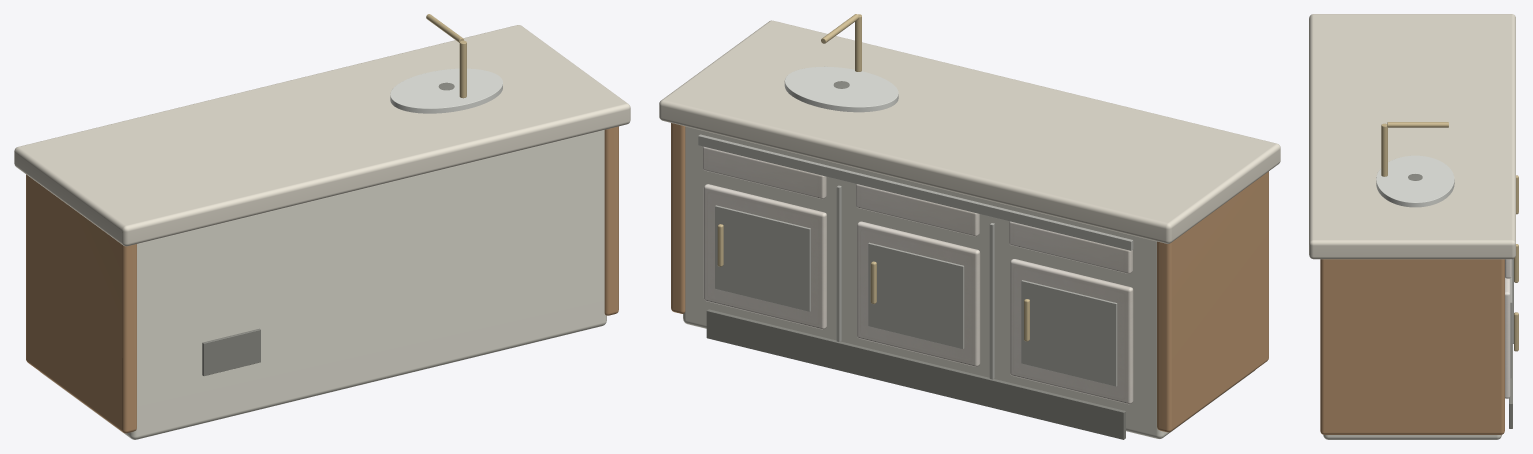
File: room_l2_img2_service_kitchen_counter.glb
The picture shows the model from 3 angles, left to right: view 1: azimuth 30°, elevation 25°; view 2: azimuth 150°, elevation 25°; view 3: azimuth 270°, elevation 25°; orthographic projection. The views are drawn at different scales.
Parts seen in each view (by area): view 1: counter_single_warm_white_cabinet_body, counter_clean_honed_stone_countertop, counter_left_warm_walnut_waterfall_side, counter_inset_porcelain_sink_basin, counter_right_warm_walnut_waterfall_side, counter_rear_service_plate; view 2: counter_clean_honed_stone_countertop, counter_single_warm_white_cabinet_body, counter_left_warm_walnut_waterfall_side, counter_recessed_toe_kick_shadow, counter_door_inner_shadow_0, counter_door_inner_shadow_1, counter_door_inner_shadow_2, counter_inset_door_panel_1, counter_inset_door_panel_0, counter_inset_door_panel_2, counter_under_counter_shadow_line, counter_inset_porcelain_sink_basin (+6 smaller); view 3: counter_clean_honed_stone_countertop, counter_right_warm_walnut_waterfall_side, counter_inset_porcelain_sink_basin, counter_single_warm_white_cabinet_body, counter_inset_door_panel_2, counter_brass_faucet_spout, counter_brass_faucet_vertical, counter_door_inner_shadow_2, counter_recessed_toe_kick_shadow.
Boxes of the visible parts, left/top/right/bottom form: counter_single_warm_white_cabinet_body: left=40, top=130, right=606, bottom=439; counter_clean_honed_stone_countertop: left=14, top=25, right=630, bottom=246; counter_left_warm_walnut_waterfall_side: left=26, top=174, right=136, bottom=433; counter_inset_porcelain_sink_basin: left=390, top=68, right=502, bottom=113; counter_right_warm_walnut_waterfall_side: left=604, top=126, right=618, bottom=315; counter_rear_service_plate: left=202, top=328, right=260, bottom=375; counter_clean_honed_stone_countertop: left=659, top=20, right=1280, bottom=243; counter_single_warm_white_cabinet_body: left=683, top=126, right=1254, bottom=438; counter_left_warm_walnut_waterfall_side: left=1157, top=171, right=1268, bottom=432; counter_recessed_toe_kick_shadow: left=706, top=309, right=1125, bottom=439; counter_door_inner_shadow_0: left=1021, top=280, right=1117, bottom=386; counter_door_inner_shadow_1: left=868, top=242, right=964, bottom=349; counter_door_inner_shadow_2: left=715, top=205, right=810, bottom=311; counter_inset_door_panel_1: left=857, top=221, right=980, bottom=366; counter_inset_door_panel_0: left=1010, top=259, right=1133, bottom=404; counter_inset_door_panel_2: left=703, top=184, right=826, bottom=329; counter_under_counter_shadow_line: left=698, top=134, right=1133, bottom=250; counter_inset_porcelain_sink_basin: left=784, top=66, right=898, bottom=112; counter_clean_honed_stone_countertop: left=1309, top=14, right=1515, bottom=259; counter_right_warm_walnut_waterfall_side: left=1320, top=259, right=1504, bottom=434; counter_inset_porcelain_sink_basin: left=1376, top=155, right=1454, bottom=207; counter_single_warm_white_cabinet_body: left=1323, top=434, right=1501, bottom=439; counter_inset_door_panel_2: left=1505, top=278, right=1510, bottom=398; counter_brass_faucet_spout: left=1387, top=122, right=1448, bottom=127; counter_brass_faucet_vertical: left=1381, top=123, right=1387, bottom=176; counter_door_inner_shadow_2: left=1510, top=260, right=1512, bottom=378; counter_recessed_toe_kick_shadow: left=1509, top=344, right=1512, bottom=428.
Size of the model in its own units: 1.94 by 1.07 by 0.75.
Materials: 8 (1 with a texture image).
